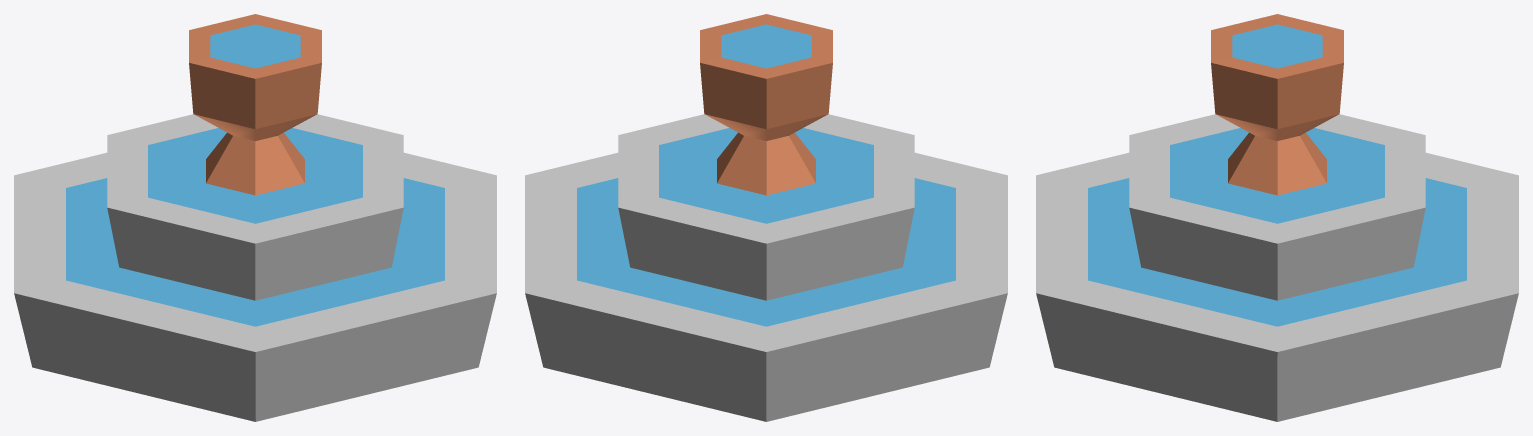
File: fountain01_s03.FBX
3 views of the same model, side by side, from view 1: azimuth 30°, elevation 25°; view 2: azimuth 150°, elevation 25°; view 3: azimuth 270°, elevation 25° (orthographic).
Visible parts, largest first — view 1: fountain01_s03; view 2: fountain01_s03; view 3: fountain01_s03.
Boxes of the visible parts, bbox=[...] form: fountain01_s03: bbox=[14, 14, 496, 421]; fountain01_s03: bbox=[525, 14, 1007, 421]; fountain01_s03: bbox=[1036, 14, 1518, 421].
Bounding box in the file's own units: 294 × 254 × 155.
1 material, 1 textured.
